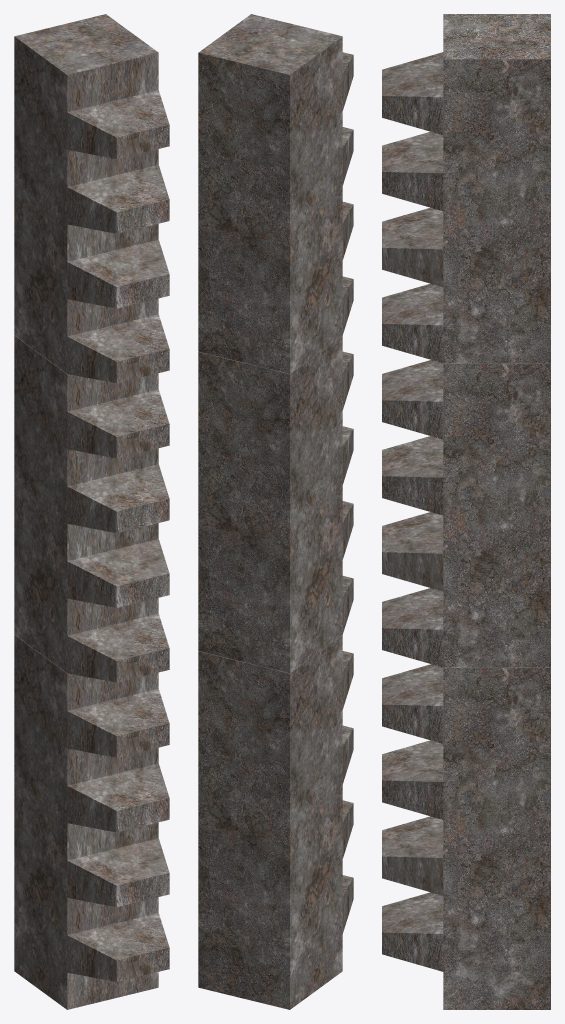
The model's file is GearRail_short.fbx.
3 renders of one model, left to right at view 1: azimuth 30°, elevation 25°; view 2: azimuth 150°, elevation 25°; view 3: azimuth 270°, elevation 25°, orthographic.
Parts seen in each view (by area): view 1: GearRail_short; view 2: GearRail_short; view 3: GearRail_short.
Boxes of the visible parts, left/top/right/bottom form: GearRail_short: left=14, top=14, right=169, bottom=1009; GearRail_short: left=198, top=14, right=353, bottom=1009; GearRail_short: left=382, top=14, right=550, bottom=1009.
Size of the model in its own units: 10 by 97.58 by 15.7.
1 material, 1 textured.
